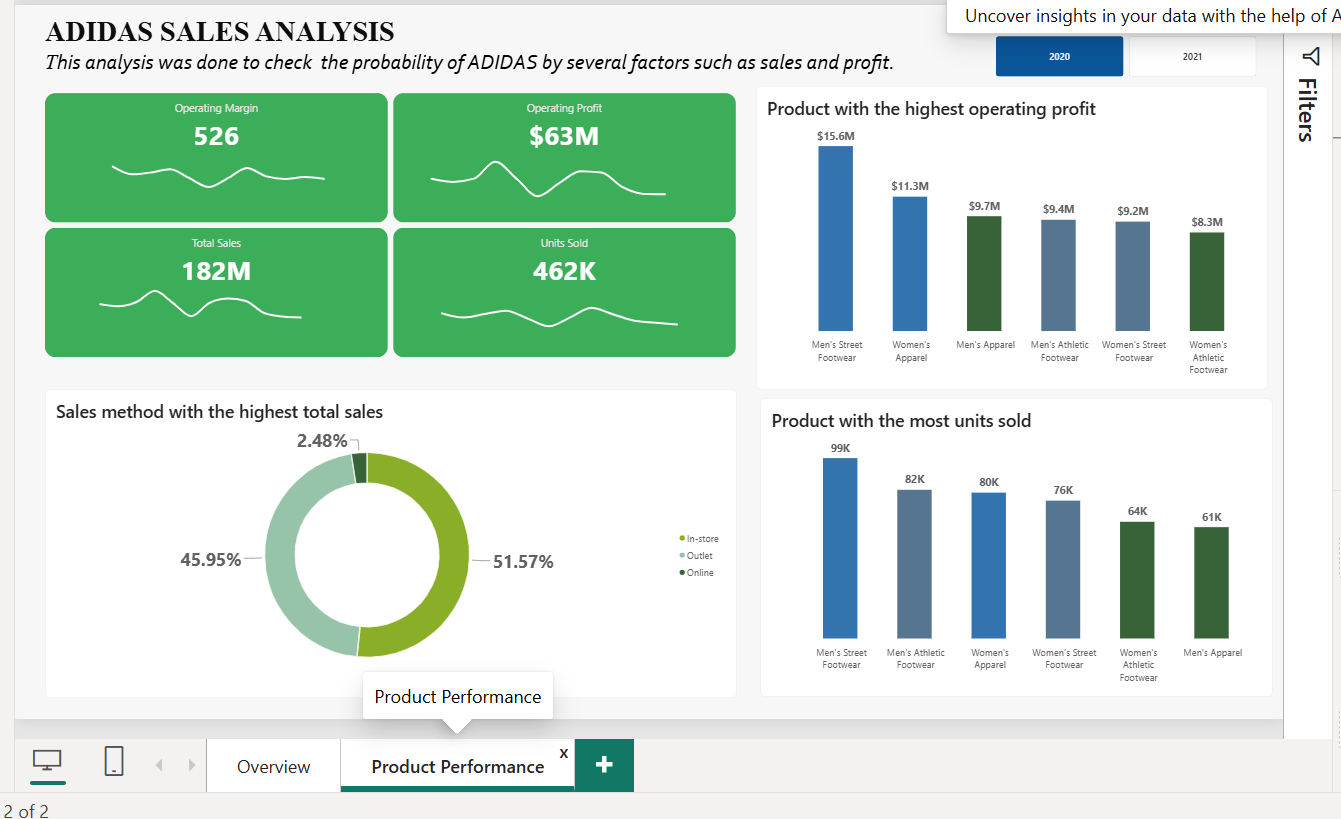

The dashboard page shown, as its layout file describes it:
{"tool":"powerbi","page":{"name":"Product Performance","canvas":[1920,1080],"ordinal":1},"visuals":[{"type":"clusteredColumnChart","title":"Product with the most units sold","fields":{"Category":["Data Sales Adidas.Product"],"Y":["Sum(Data Sales Adidas.Units Sold)"]},"box":[1127.9,595.8,775.4,452.5],"z":0},{"type":"donutChart","title":"Sales method with the highest total  sales","fields":{"Category":["Data Sales Adidas.Sales Method"],"Y":["Sum(Data Sales Adidas.Total Sales)"]},"box":[45.4,581.5,1047.1,467.9],"z":1000},{"type":"columnChart","title":"Product with the highest operating  profit","fields":{"Category":["Data Sales Adidas.Product"],"Y":["Sum(Data Sales Adidas.Operating Profit)"]},"box":[1121.1,122.8,775.4,459.3],"z":2000},{"type":"textbox","box":[45.4,15.9,1053.7,99.2],"z":3000},{"type":"textbox","box":[45.4,65.9,1298.5,52.3],"z":4000},{"type":"advancedSlicerVisual","fields":{"Values":["Data Sales Adidas.Invoice Date.Variation.Date Hierarchy.Year"]},"box":[1485.4,15.9,395.2,93.1],"z":5000},{"type":"cardVisual","fields":{"Data":["Sum(Data Sales Adidas.Operating Margin)","Sum(Data Sales Adidas.Operating Profit)","Sum(Data Sales Adidas.Total Sales)","Sum(Data Sales Adidas.Units Sold)"]},"box":[45.4,118.1,1047.1,415.6],"z":6000},{"type":"lineChart","fields":{"Category":["Data Sales Adidas.Invoice Date.Variation.Date Hierarchy.Month"],"Y":["Sum(Data Sales Adidas.Operating Margin)"]},"box":[120.4,209,374.8,97.7],"z":7000},{"type":"lineChart","fields":{"Category":["Data Sales Adidas.Invoice Date.Variation.Date Hierarchy.Month"],"Y":["Sum(Data Sales Adidas.Operating Profit)"]},"box":[601.9,209,411.1,99.9],"z":8000},{"type":"lineChart","fields":{"Category":["Data Sales Adidas.Invoice Date.Variation.Date Hierarchy.Month"],"Y":["Sum(Data Sales Adidas.Total Sales)"]},"box":[102.2,408.8,357,88.7],"z":9000},{"type":"lineChart","fields":{"Category":["Data Sales Adidas.Invoice Date.Variation.Date Hierarchy.Month"],"Y":["Sum(Data Sales Adidas.Units Sold)"]},"box":[617.8,424.7,413.4,88.6],"z":10000}]}

Visuals, with their boxes on the page's 1920x1080 design canvas (x1, y1, x2, y2). These are canvas units, not pixel positions in the 1341x819 screenshot, which may show the page scaled, cropped or inside an application window:
"Product with the most units sold" clusteredColumnChart: BBox(1128, 596, 1903, 1048)
"Sales method with the highest total  sales" donutChart: BBox(45, 582, 1092, 1049)
"Product with the highest operating  profit" columnChart: BBox(1121, 123, 1896, 582)
textbox: BBox(45, 16, 1099, 115)
textbox: BBox(45, 66, 1344, 118)
advancedSlicerVisual - Data Sales Adidas.Invoice Date.Variation.Date Hierarchy.Year: BBox(1485, 16, 1881, 109)
cardVisual - Sum(Data Sales Adidas.Operating Margin) x Sum(Data Sales Adidas.Operating Profit): BBox(45, 118, 1092, 534)
lineChart - Data Sales Adidas.Invoice Date.Variation.Date Hierarchy.Month x Sum(Data Sales Adidas.Operating Margin): BBox(120, 209, 495, 307)
lineChart - Data Sales Adidas.Invoice Date.Variation.Date Hierarchy.Month x Sum(Data Sales Adidas.Operating Profit): BBox(602, 209, 1013, 309)
lineChart - Data Sales Adidas.Invoice Date.Variation.Date Hierarchy.Month x Sum(Data Sales Adidas.Total Sales): BBox(102, 409, 459, 498)
lineChart - Data Sales Adidas.Invoice Date.Variation.Date Hierarchy.Month x Sum(Data Sales Adidas.Units Sold): BBox(618, 425, 1031, 513)
